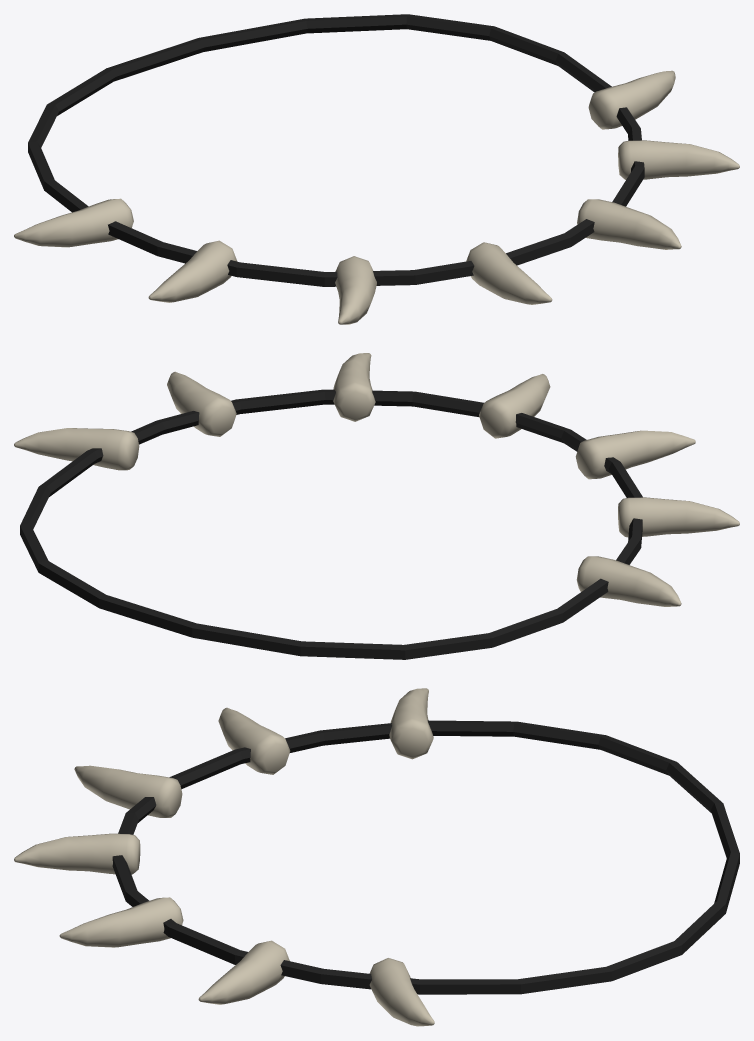
File: Necklace_03.fbx
3 renders of one model, top to bottom at view 1: azimuth 30°, elevation 25°; view 2: azimuth 150°, elevation 25°; view 3: azimuth 270°, elevation 25°, orthographic. The views are drawn at different scales.
Visible parts, largest first — view 1: Necklace_03; view 2: Necklace_03; view 3: Necklace_03.
Boxes of the visible parts, x1,y1,x2,y2 form: Necklace_03: (14, 14, 739, 324); Necklace_03: (14, 353, 739, 659); Necklace_03: (14, 688, 739, 1026).
Bounding box in the file's own units: 0.1838 × 0.0102 × 0.1689.
